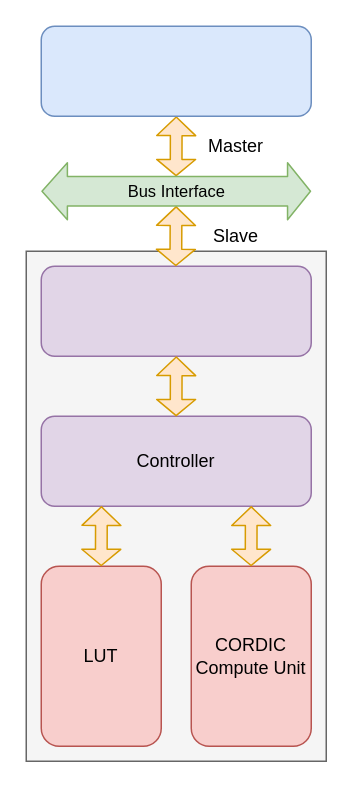
This 353x788 diagram has some shape labels left out. The centre of each missing label's shape, as x and y in pixels:
Bus Manager: point 175,310
Primary processor: point 175,70
